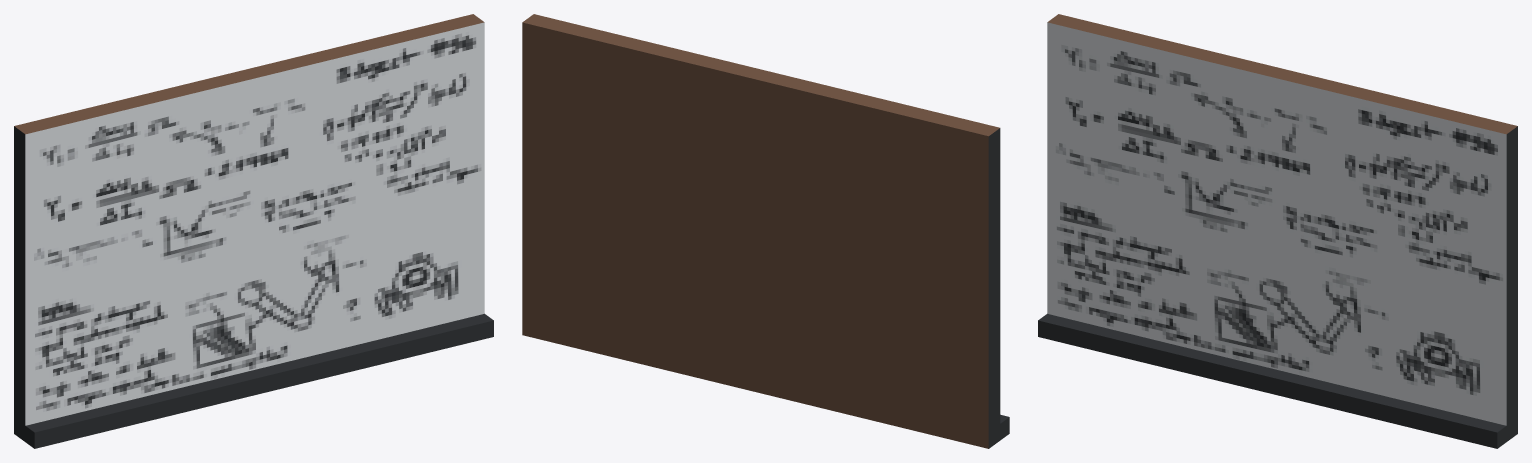
The model's file is whiteboardFBX.fbx.
The picture shows the model from 3 angles, left to right: view 1: azimuth 30°, elevation 25°; view 2: azimuth 150°, elevation 25°; view 3: azimuth 330°, elevation 25°; orthographic projection.
Visible parts, largest first — view 1: pCube1; view 2: pCube1; view 3: pCube1.
Part boxes in pixels (left/top/right/bottom): pCube1: left=14, top=14, right=493, bottom=448; pCube1: left=522, top=14, right=1009, bottom=448; pCube1: left=1038, top=14, right=1517, bottom=448.
Bounding box in the file's own units: 345 × 221 × 26.8.
